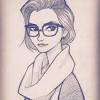Glasses: (20, 22, 64, 40)
